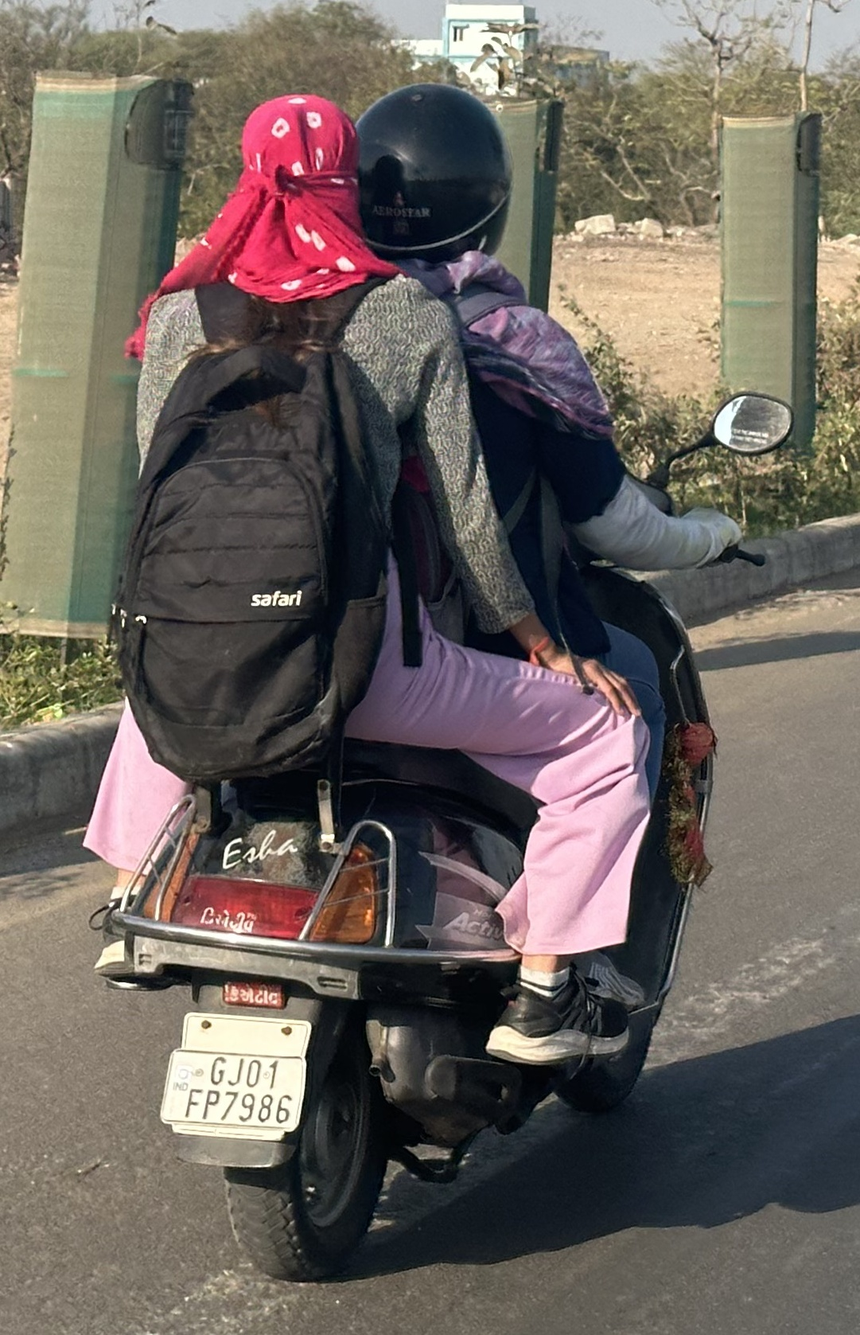BikeWithRider: (68, 74, 797, 1291)
Helmet: (344, 76, 520, 271)
NoHelmet: (224, 86, 374, 260)
